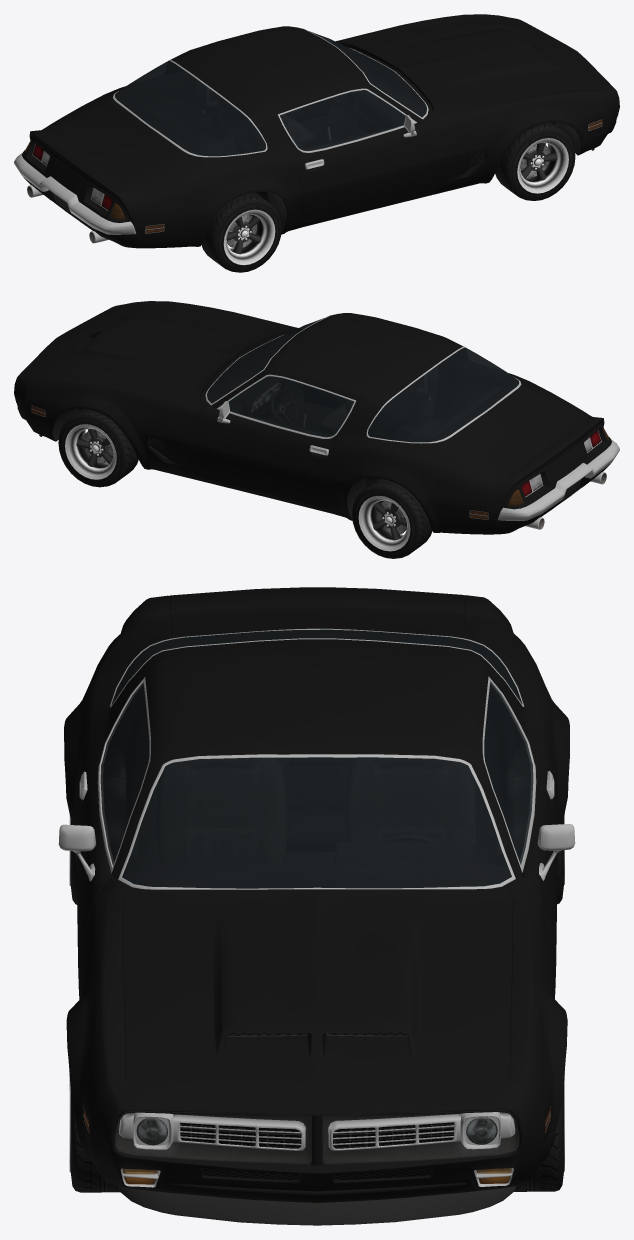
File: car_muscle.glb
3 views of the same model, one above another, from view 1: azimuth 30°, elevation 25°; view 2: azimuth 150°, elevation 25°; view 3: azimuth 270°, elevation 25° (orthographic). The views are drawn at different scales.
Visible parts, largest first — view 1: Phoenix445_Body_Phoenix445_Bodymat_0, Phoenix445_Interior_UCB_Interiors_2_0, Phoenix445_Hood_Phoenix445_Bodymat_0, Phoenix445_Glass_rear_UCB_Lights_and_Glass_Transperent_0, Phoenix445_Trunkdoor_Phoenix445_Bodymat_0, Phoenix445_Glass_Passenger_UCB_Lights_and_Glass_Transperent_, Phoenix445_WheelStock_RR_RB1c_Tire_1k_0, Phoenix445_WheelStock_FR_RB1c_Tire_1k_0, Phoenix445_Bottom_UCB_BOTTOM_0, Phoenix445_Bumper_rear_UCB_BOTTOM_0, Phoenix445_Windshield_UCB_Lights_and_Glass_Transperent_0, Phoenix445_Taillights_Glass_UCB_Lights_and_Glass_Transperent; view 2: Phoenix445_Body_Phoenix445_Bodymat_0, Phoenix445_Hood_Phoenix445_Bodymat_0, Phoenix445_Interior_UCB_Interiors_2_0, Phoenix445_Glass_rear_UCB_Lights_and_Glass_Transperent_0, Phoenix445_Trunkdoor_Phoenix445_Bodymat_0, Phoenix445_Glass_Driver_UCB_Lights_and_Glass_Transperent_0, Phoenix445_WheelStock_RL_RB1c_Tire_1k_0, Phoenix445_WheelStock_FL_RB1c_Tire_1k_0, Phoenix445_Bottom_UCB_BOTTOM_0, Phoenix445_Bumper_rear_UCB_BOTTOM_0, Phoenix445_Windshield_UCB_Lights_and_Glass_Transperent_0, Phoenix445_Taillights_Glass_UCB_Lights_and_Glass_Transperent (+1 smaller); view 3: Phoenix445_Body_Phoenix445_Bodymat_0, Phoenix445_Hood_Phoenix445_Bodymat_0, Phoenix445_Interior_UCB_Interiors_2_0, Phoenix445_Windshield_UCB_Lights_and_Glass_Transperent_0, Phoenix445_Bottom_UCB_BOTTOM_0, Phoenix445_Trunkdoor_Phoenix445_Bodymat_0, Phoenix445_Glass_Driver_UCB_Lights_and_Glass_Transperent_0, Phoenix445_Glass_Passenger_UCB_Lights_and_Glass_Transperent_, Phoenix445_Glass_rear_UCB_Lights_and_Glass_Transperent_0, Phoenix445_WheelStock_FR_RB1c_Tire_1k_0, Phoenix445_WheelStock_FL_RB1c_Tire_1k_0, Phoenix445_Headlights_glass_UCB_Lights_and_Glass_Transperent (+2 smaller).
Boxes of the visible parts, x1,y1,x2,y2 form: Phoenix445_Body_Phoenix445_Bodymat_0: (22,14,619,248); Phoenix445_Interior_UCB_Interiors_2_0: (115,47,426,155); Phoenix445_Hood_Phoenix445_Bodymat_0: (339,18,598,112); Phoenix445_Glass_rear_UCB_Lights_and_Glass_Transperent_0: (115,61,265,156); Phoenix445_Trunkdoor_Phoenix445_Bodymat_0: (35,104,178,194); Phoenix445_Glass_Passenger_UCB_Lights_and_Glass_Transperent_: (280,90,405,151); Phoenix445_WheelStock_RR_RB1c_Tire_1k_0: (201,192,281,272); Phoenix445_WheelStock_FR_RB1c_Tire_1k_0: (495,122,575,200); Phoenix445_Bottom_UCB_BOTTOM_0: (27,27,602,243); Phoenix445_Bumper_rear_UCB_BOTTOM_0: (14,152,136,234); Phoenix445_Windshield_UCB_Lights_and_Glass_Transperent_0: (309,31,426,117); Phoenix445_Taillights_Glass_UCB_Lights_and_Glass_Transperent: (24,141,164,233); Phoenix445_Body_Phoenix445_Bodymat_0: (14,301,611,534); Phoenix445_Hood_Phoenix445_Bodymat_0: (35,305,294,398); Phoenix445_Interior_UCB_Interiors_2_0: (207,334,518,441); Phoenix445_Glass_rear_UCB_Lights_and_Glass_Transperent_0: (368,347,518,442); Phoenix445_Trunkdoor_Phoenix445_Bodymat_0: (456,391,599,480); Phoenix445_Glass_Driver_UCB_Lights_and_Glass_Transperent_0: (228,376,354,437); Phoenix445_WheelStock_RL_RB1c_Tire_1k_0: (352,478,432,558); Phoenix445_WheelStock_FL_RB1c_Tire_1k_0: (58,408,138,487); Phoenix445_Bottom_UCB_BOTTOM_0: (31,313,606,529); Phoenix445_Bumper_rear_UCB_BOTTOM_0: (498,439,619,521); Phoenix445_Windshield_UCB_Lights_and_Glass_Transperent_0: (207,318,323,403); Phoenix445_Taillights_Glass_UCB_Lights_and_Glass_Transperent: (469,427,609,519); Phoenix445_Body_Phoenix445_Bodymat_0: (64,595,569,1202); Phoenix445_Hood_Phoenix445_Bodymat_0: (122,887,511,1081); Phoenix445_Interior_UCB_Interiors_2_0: (103,630,530,887); Phoenix445_Windshield_UCB_Lights_and_Glass_Transperent_0: (122,757,511,888); Phoenix445_Bottom_UCB_BOTTOM_0: (58,628,575,1225); Phoenix445_Trunkdoor_Phoenix445_Bodymat_0: (169,587,464,636); Phoenix445_Glass_Driver_UCB_Lights_and_Glass_Transperent_0: (484,681,533,864); Phoenix445_Glass_Passenger_UCB_Lights_and_Glass_Transperent_: (100,682,149,865); Phoenix445_Glass_rear_UCB_Lights_and_Glass_Transperent_0: (111,629,522,704); Phoenix445_WheelStock_FR_RB1c_Tire_1k_0: (69,1072,119,1192); Phoenix445_WheelStock_FL_RB1c_Tire_1k_0: (514,1071,564,1191); Phoenix445_Headlights_glass_UCB_Lights_and_Glass_Transperent: (136,1117,497,1145).
Size of the model in its own units: 4.89 by 1.33 by 2.09.
6 materials, 5 textured.
